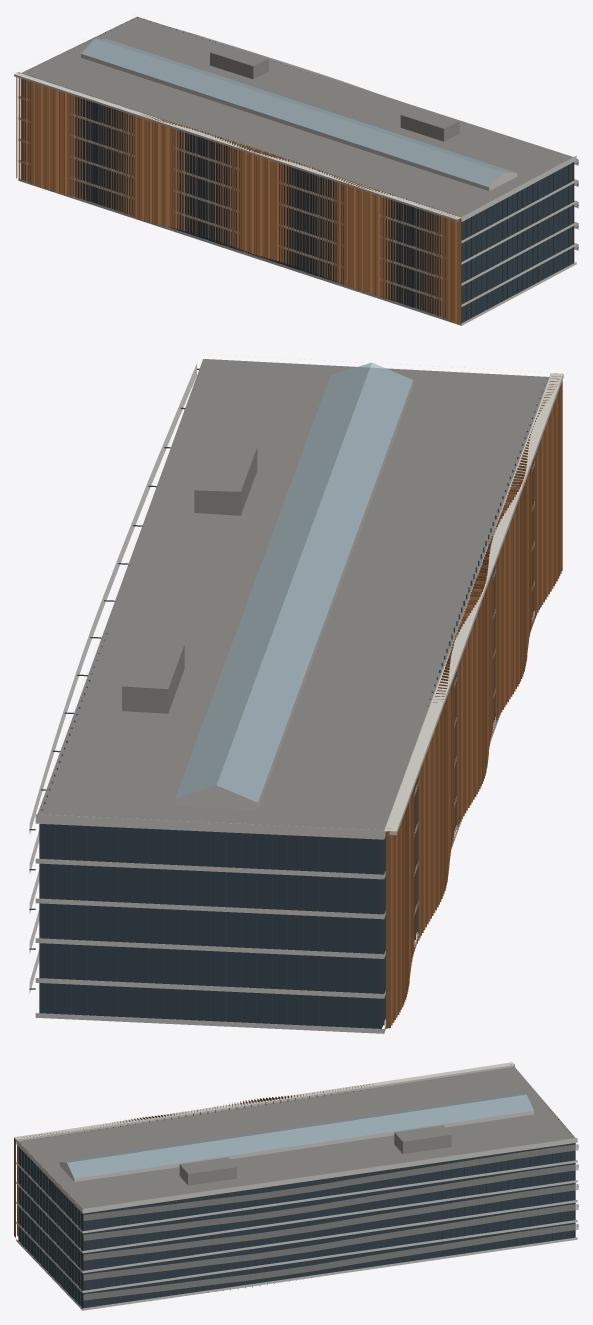
File: holland_park_school.glb
3 renders of one model, top to bottom at view 1: azimuth 30°, elevation 25°; view 2: azimuth 150°, elevation 25°; view 3: azimuth 270°, elevation 25°, orthographic. The views are drawn at different scales.
Bounding box in the file's own units: 69.44 × 25.22 × 108.
